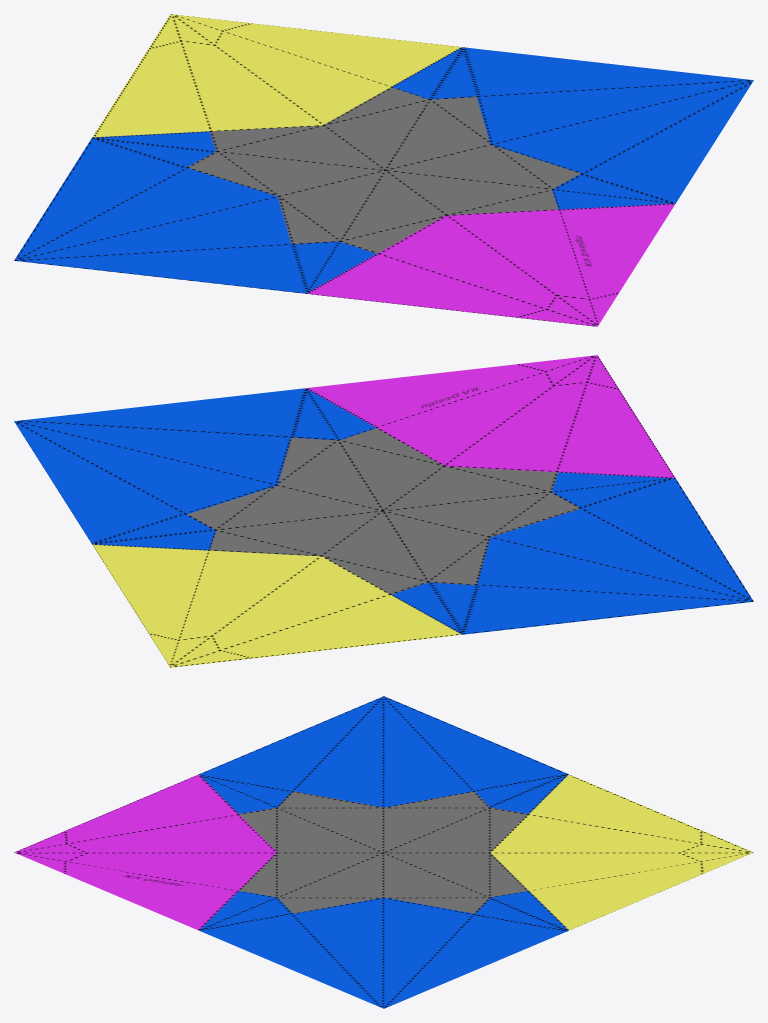
Rendered from paper-bird.glb.
3 views of the same model, one above another, from view 1: azimuth 30°, elevation 25°; view 2: azimuth 150°, elevation 25°; view 3: azimuth 270°, elevation 25° (orthographic). The views are drawn at different scales.
Parts seen in each view (by area): view 1: Paper; view 2: Paper; view 3: Paper.
Part boxes in pixels (x1,y1,x2,y2): Paper: (14, 14, 753, 326); Paper: (14, 355, 753, 667); Paper: (14, 696, 753, 1008).
Size of the model in its own units: 28.28 by 3.58e-07 by 28.28.
Materials: 1 (1 with a texture image).
